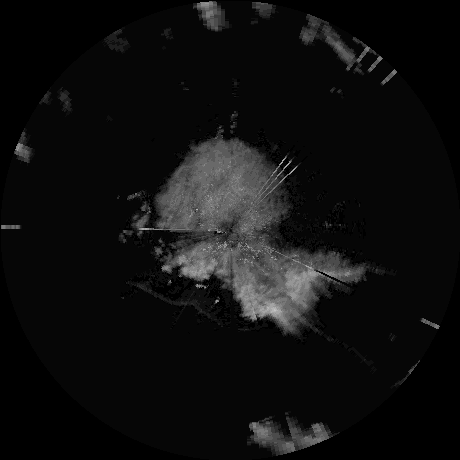frontgust: (131, 281, 224, 323)
